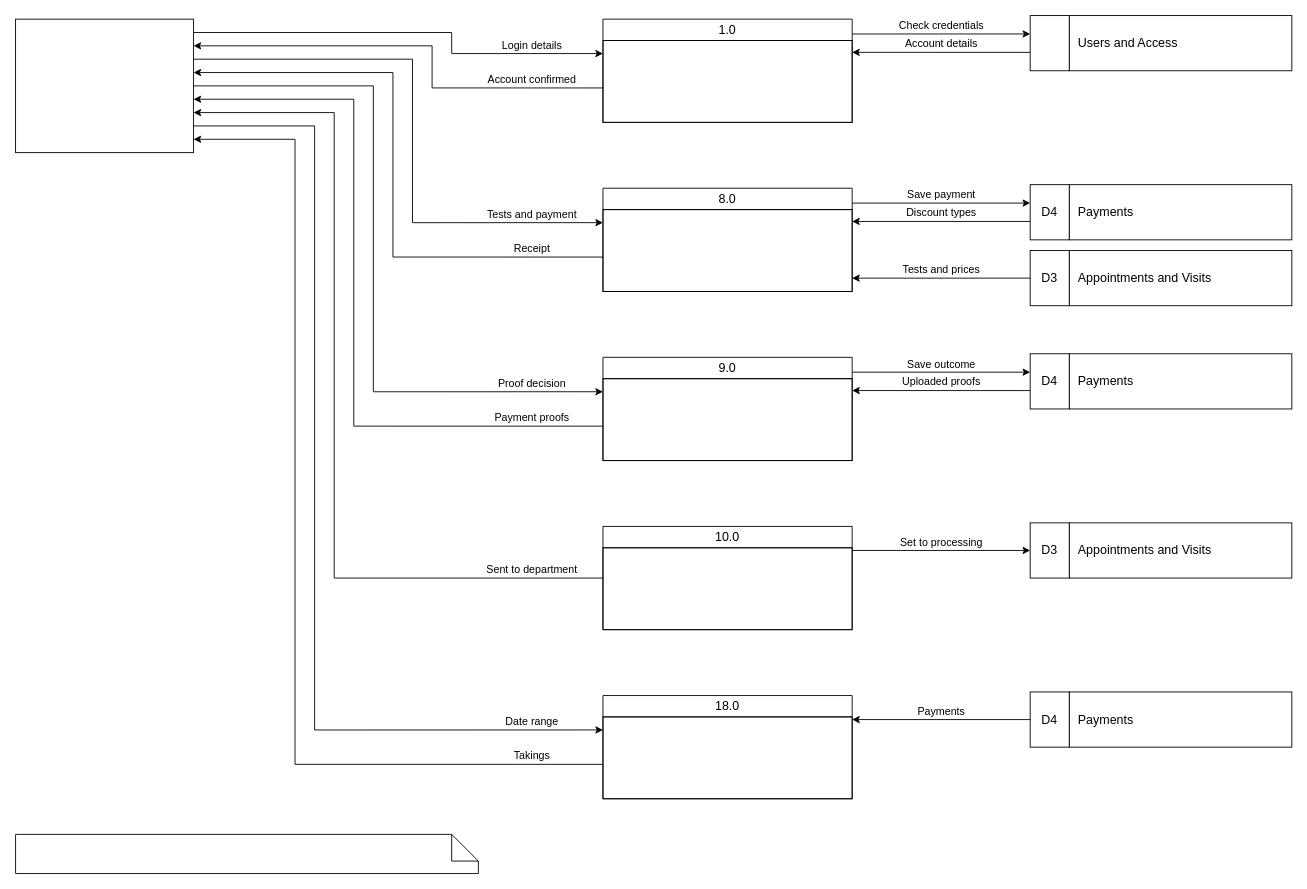
The diagram is 1307 pixels wide and 889 high, and some of its shapes have lost their labels. The shapes that lost their labels are listed below. From the top down, each one's centre as x and y in pixels, then its label:
At pixel 1049 43: "D1".
At pixel 104 85: "Cashier".
At pixel 727 81: "Manage Login".
At pixel 727 250: "Process Payment".
At pixel 727 419: "Review Payment Proof".
At pixel 727 588: "Release Visit".
At pixel 727 757: "Generate Reports".
At pixel 246 853: "A data store drawn more than once on this sheet is the same store.".
